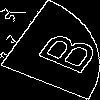B: (25, 24, 100, 77)
